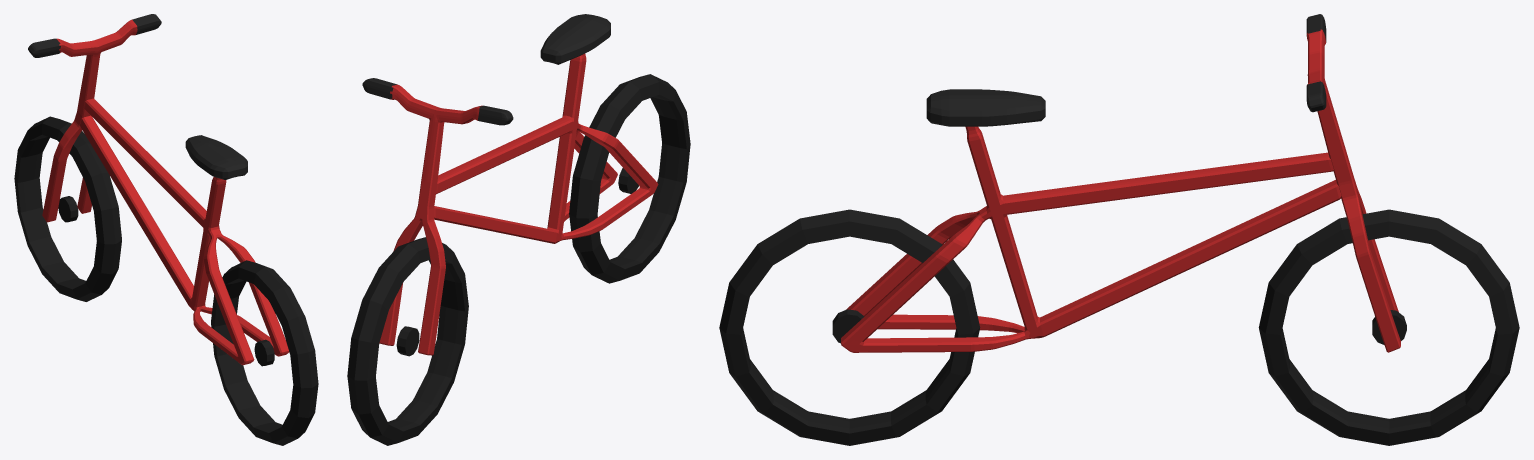
The model's file is qt.bicycle.glb.
3 renders of one model, left to right at view 1: azimuth 30°, elevation 25°; view 2: azimuth 150°, elevation 25°; view 3: azimuth 270°, elevation 25°, orthographic. The views are drawn at different scales.
Parts seen in each view (by area): view 1: Frame_Cube.005, FrontWheel_Cylinder.002, BackWheel_Cylinder.001, Handle_Cube.000, Saddle_Cube.007; view 2: FrontWheel_Cylinder.002, BackWheel_Cylinder.001, Frame_Cube.005, Handle_Cube.000, Saddle_Cube.007; view 3: Frame_Cube.005, FrontWheel_Cylinder.002, BackWheel_Cylinder.001, Handle_Cube.000, Saddle_Cube.007.
Boxes of the visible parts, <box> form: Frame_Cube.005: <box>80,98,289,365</box>; FrontWheel_Cylinder.002: <box>14,116,121,301</box>; BackWheel_Cylinder.001: <box>211,260,318,445</box>; Handle_Cube.000: <box>28,14,161,222</box>; Saddle_Cube.007: <box>185,135,247,179</box>; FrontWheel_Cylinder.002: <box>347,237,468,445</box>; BackWheel_Cylinder.001: <box>569,74,690,283</box>; Frame_Cube.005: <box>434,53,658,243</box>; Handle_Cube.000: <box>362,78,513,355</box>; Saddle_Cube.007: <box>540,14,610,64</box>; Frame_Cube.005: <box>841,126,1341,352</box>; FrontWheel_Cylinder.002: <box>1258,209,1519,445</box>; BackWheel_Cylinder.001: <box>719,209,980,445</box>; Handle_Cube.000: <box>1306,14,1400,352</box>; Saddle_Cube.007: <box>926,89,1045,126</box>.
Size of the model in its own units: 0.4485 by 0.9455 by 1.75.
